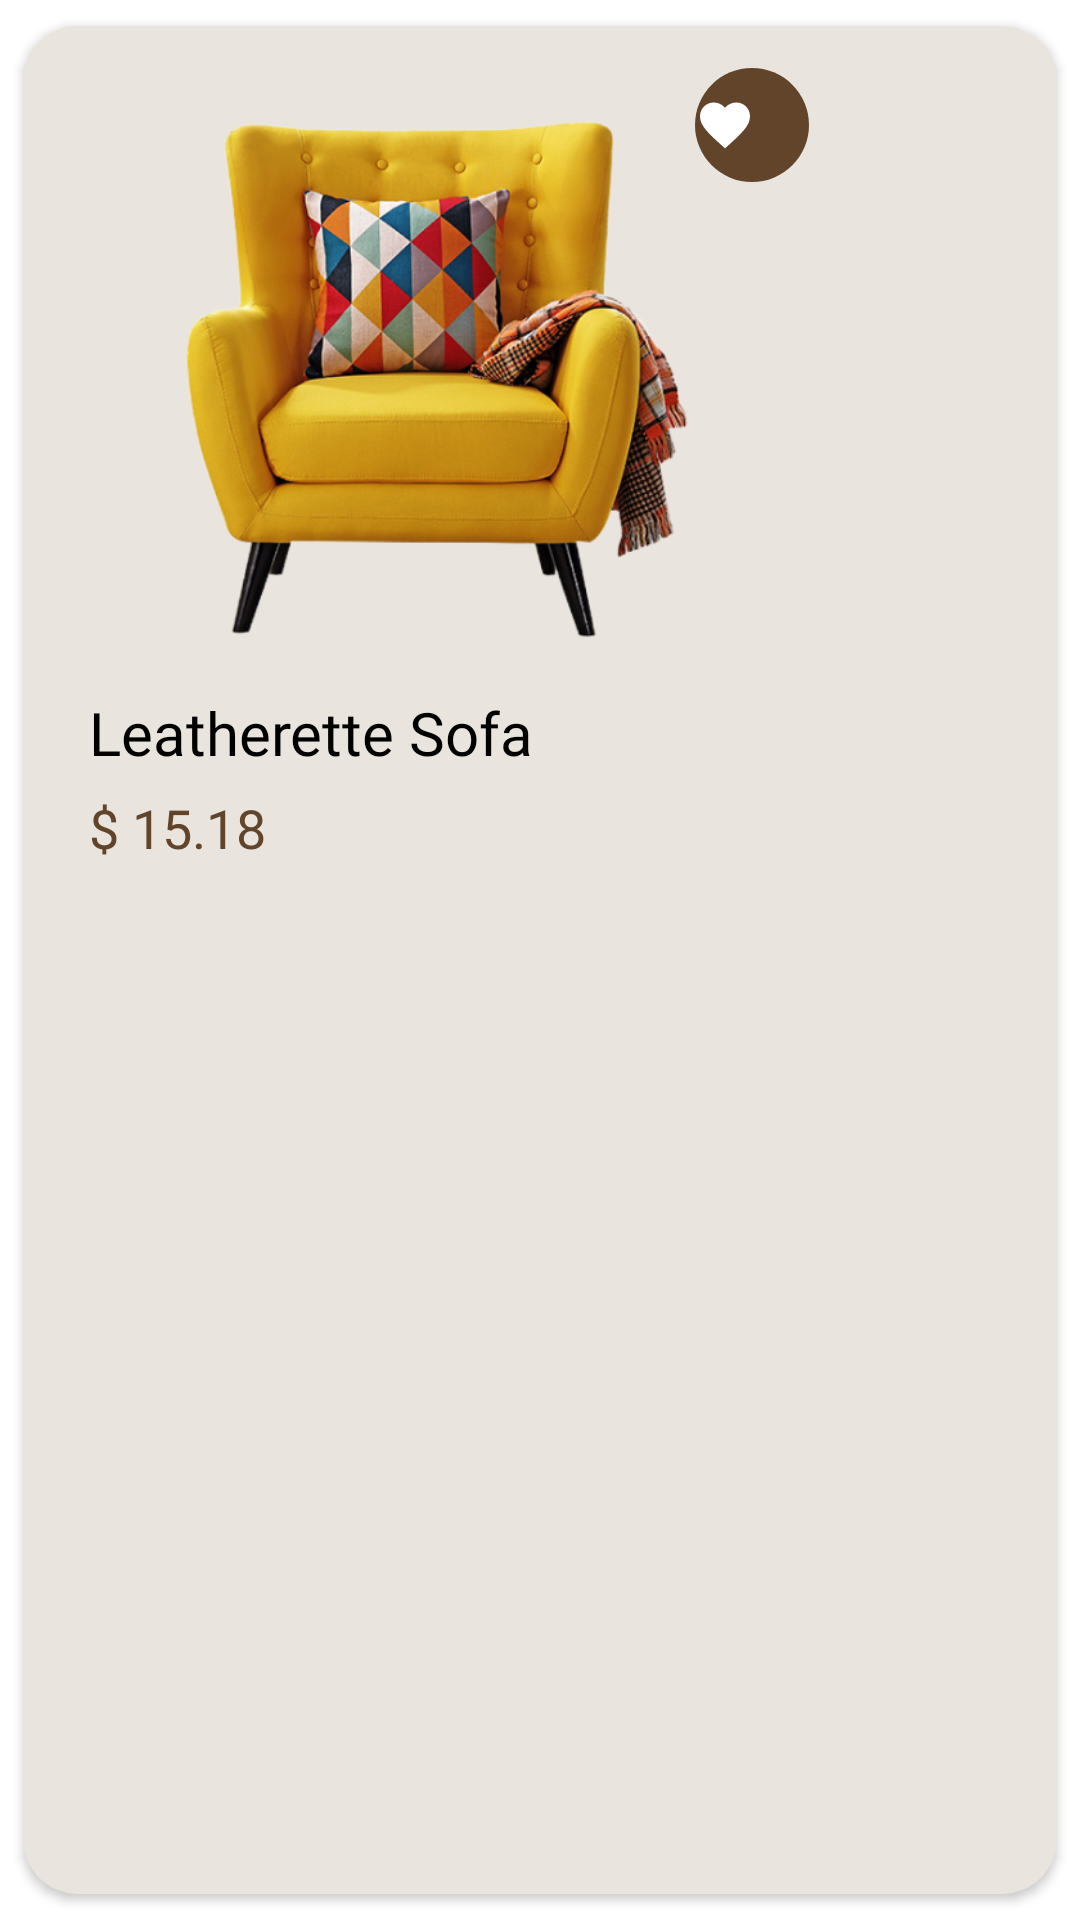

Named icons in this screenshot (1080*1920) and their centers, (x,y):
wishlist item: (752,125)
